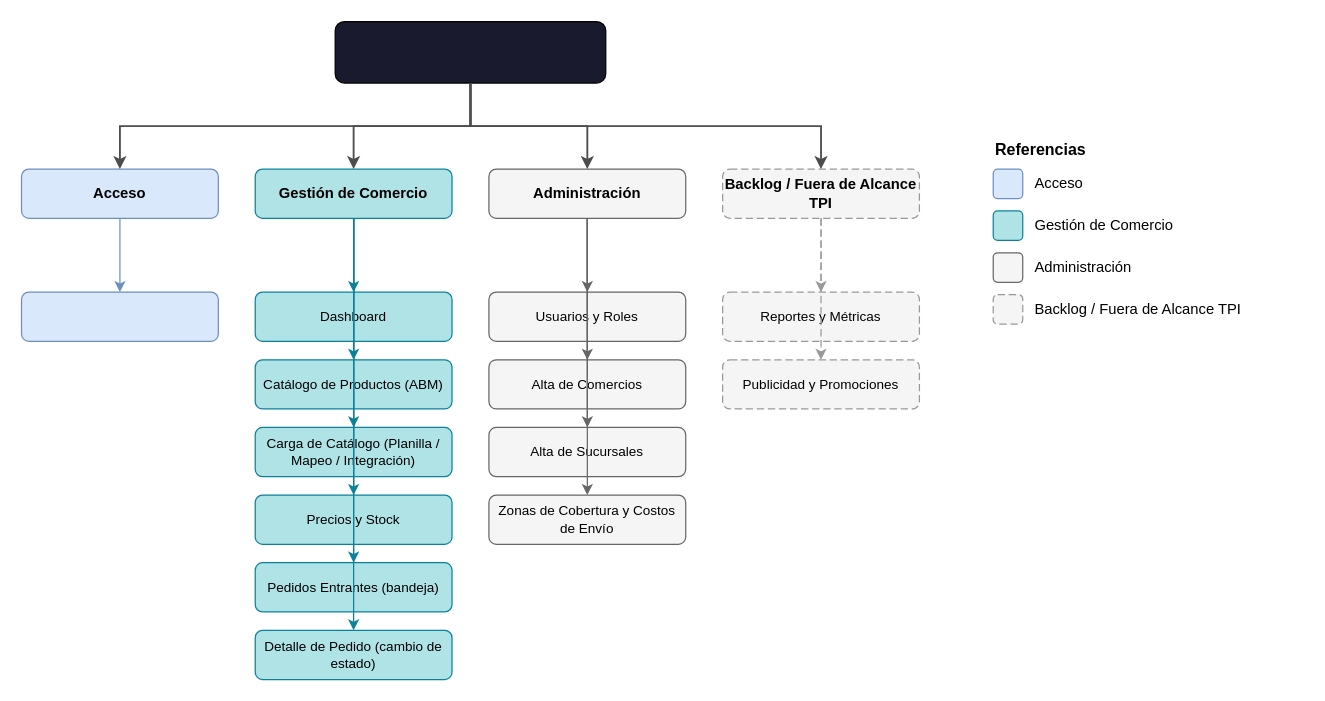
This 1325x701 diagram has some shape labels left out. The box of each missing label's shape, as (x1, y1, x2, y2) in pixels:
Changuito — Backoffice: (334, 20, 606, 83)
Login Backoffice: (20, 291, 218, 341)
